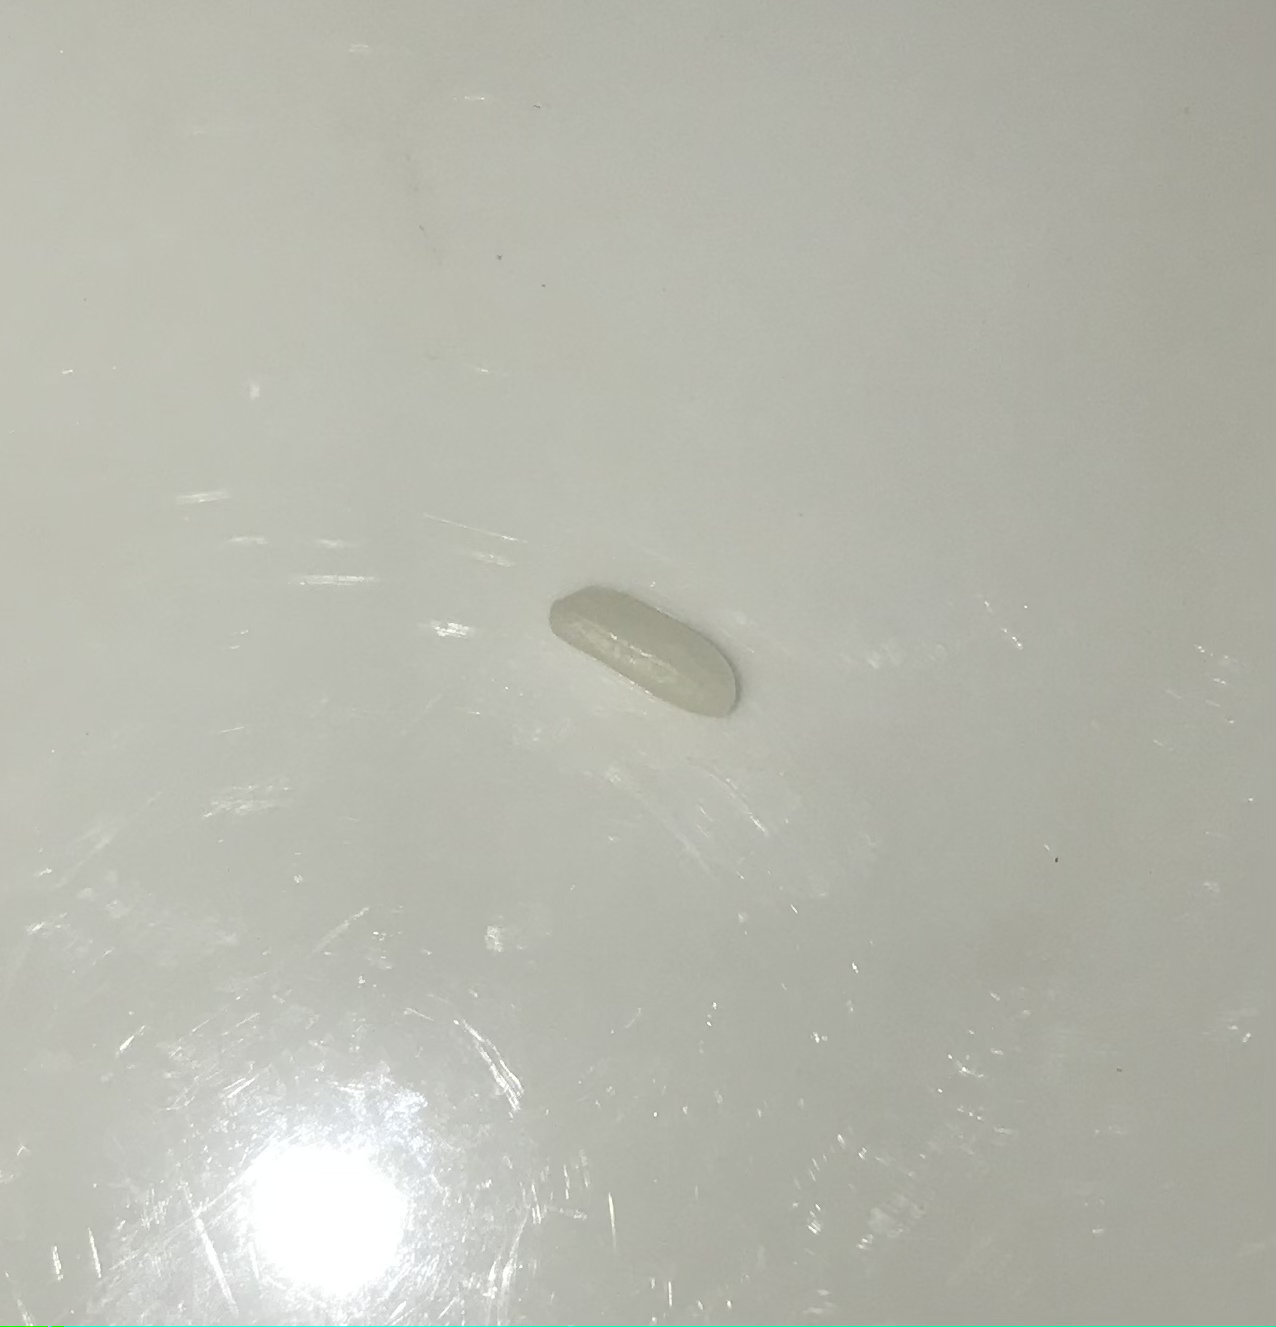Gao Lai Sua: (549, 569, 744, 730)
